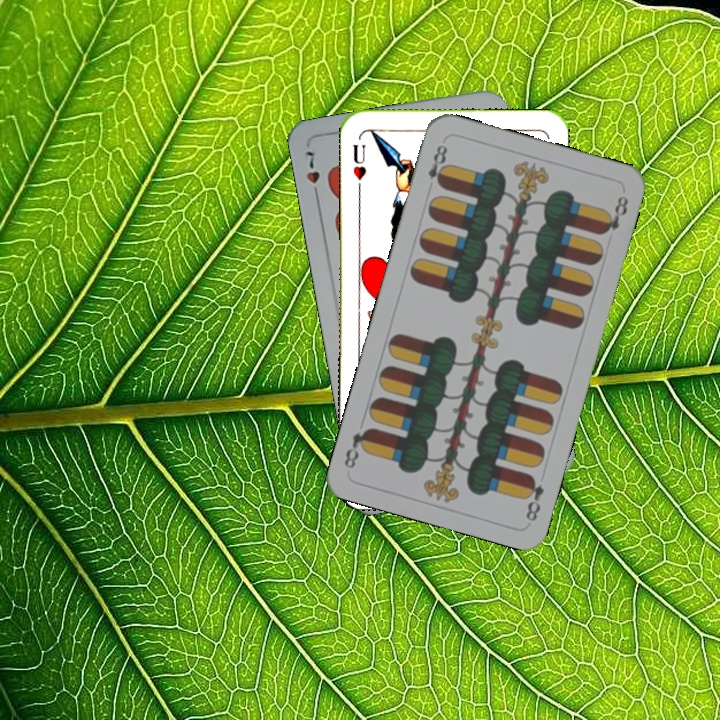E8: (520, 471, 547, 524), (424, 140, 451, 190)
H7: (302, 147, 322, 203)
HU: (349, 140, 369, 193)
